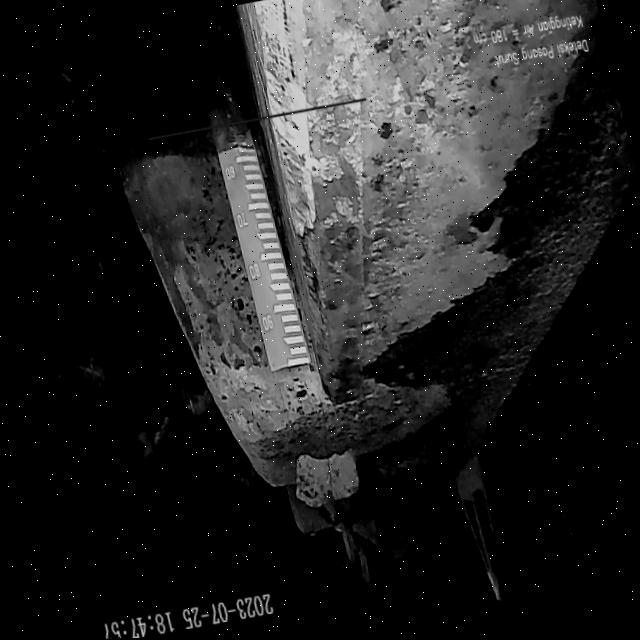water-meter: (195, 76, 315, 381)
